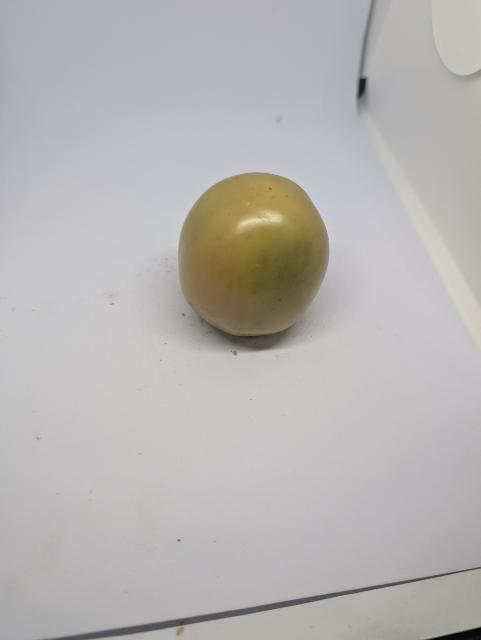breaker: (179, 173, 330, 337)
